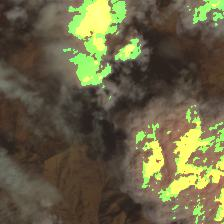landslides: (82, 109, 120, 124), (101, 67, 119, 78)
